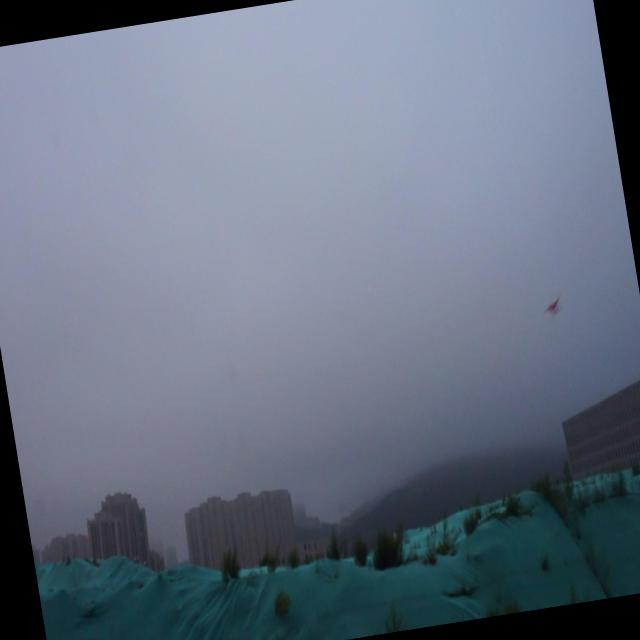drone: (540, 290, 566, 321)
